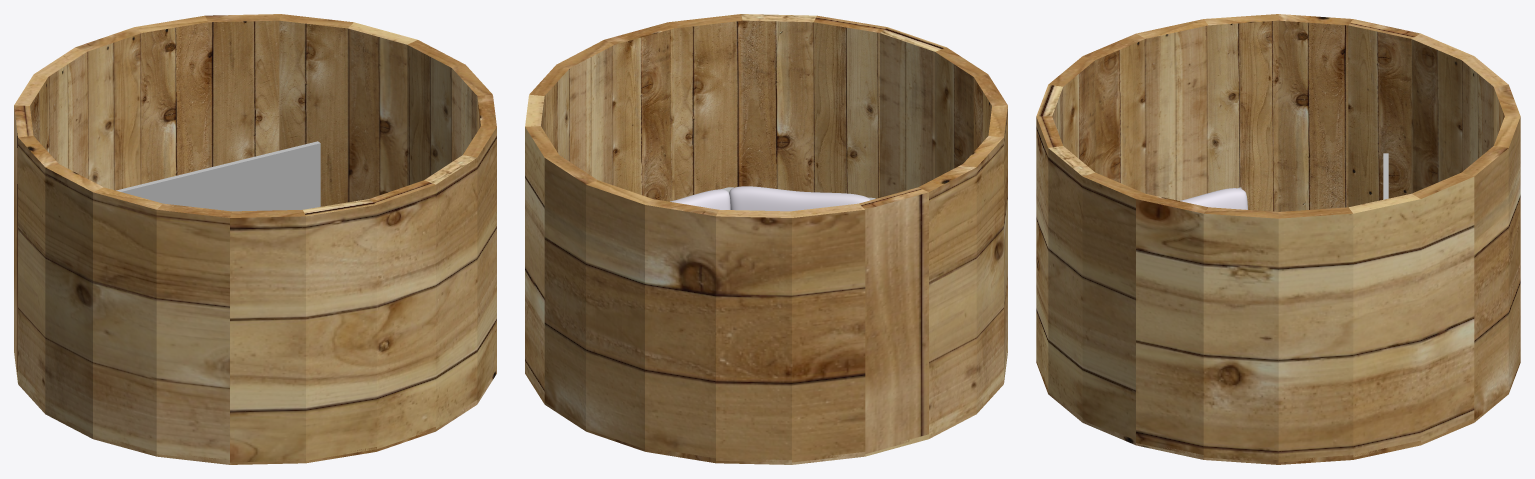
The model's file is room03_6.fbx.
The picture shows the model from 3 angles, left to right: view 1: azimuth 30°, elevation 25°; view 2: azimuth 150°, elevation 25°; view 3: azimuth 270°, elevation 25°; orthographic projection.
Parts seen in each view (by area): view 1: 牆, 面板; view 2: 牆, 坐墊1; view 3: 牆, 坐墊1.
Boxes of the visible parts, box(x1,y1,x2,y2) form: 牆: box(14, 14, 496, 464); 面板: box(116, 141, 320, 211); 牆: box(525, 14, 1007, 464); 坐墊1: box(670, 186, 869, 211); 牆: box(1036, 14, 1520, 464); 坐墊1: box(1180, 188, 1247, 209).
Size of what is drawn, in the model's own units: 900 by 505 by 900.
